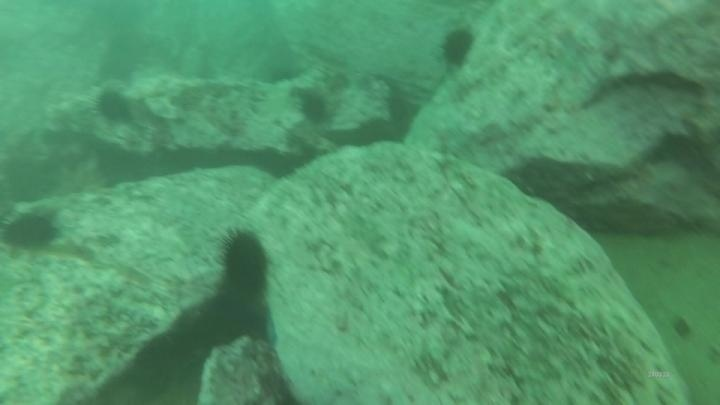echinus: (190, 293, 268, 353), (218, 227, 272, 300), (1, 209, 61, 254), (438, 26, 477, 69), (94, 88, 134, 126), (296, 90, 332, 126), (263, 61, 305, 87)
